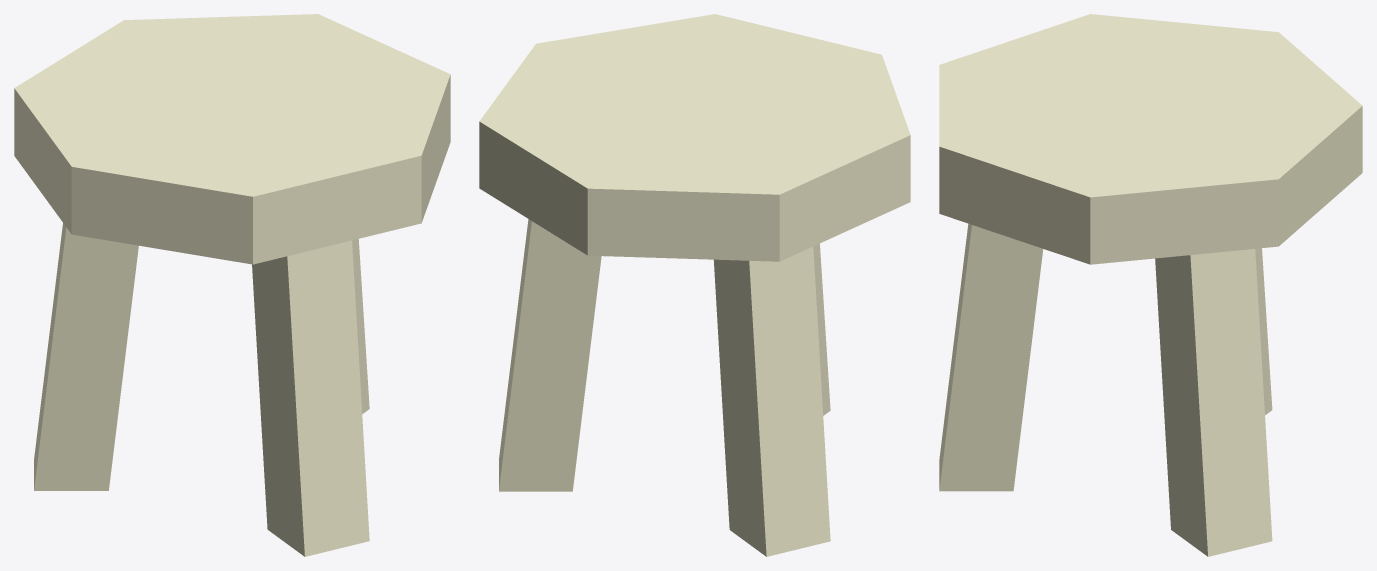
The model's file is Stool.glb.
3 renders of one model, left to right at view 1: azimuth 30°, elevation 25°; view 2: azimuth 150°, elevation 25°; view 3: azimuth 270°, elevation 25°, orthographic.
Parts seen in each view (by area): view 1: Stool; view 2: Stool; view 3: Stool.
Part boxes in pixels (x1,y1,x2,y2): Stool: [14, 14, 450, 556]; Stool: [479, 14, 910, 556]; Stool: [939, 14, 1362, 556].
Bounding box in the file's own units: 0.2925 × 0.275 × 0.2851.
